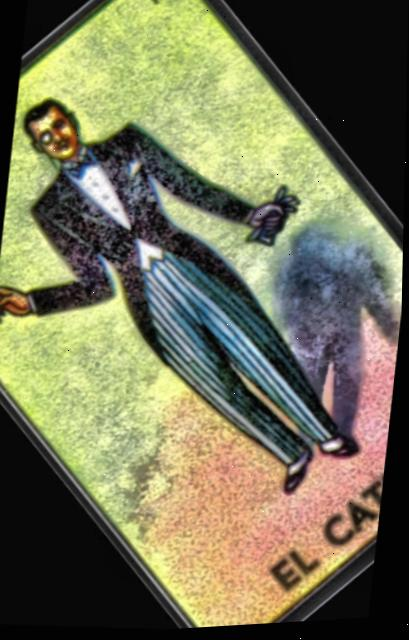El Catrin: (0, 0, 404, 630)
